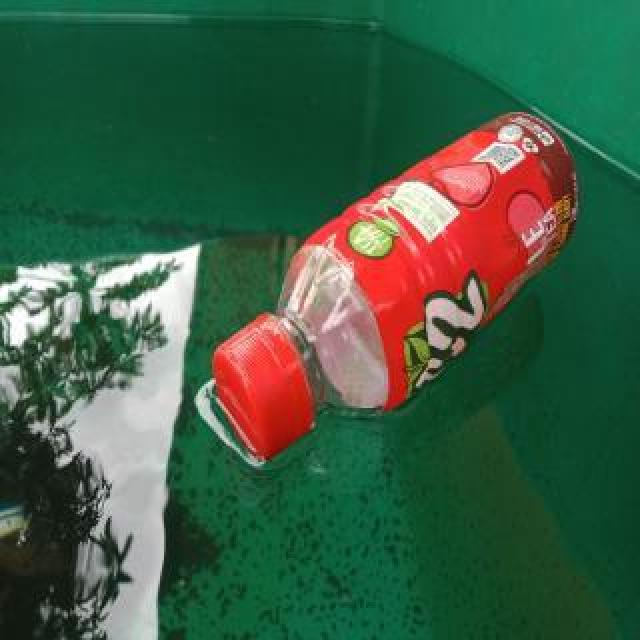bottle: (209, 108, 581, 462)
